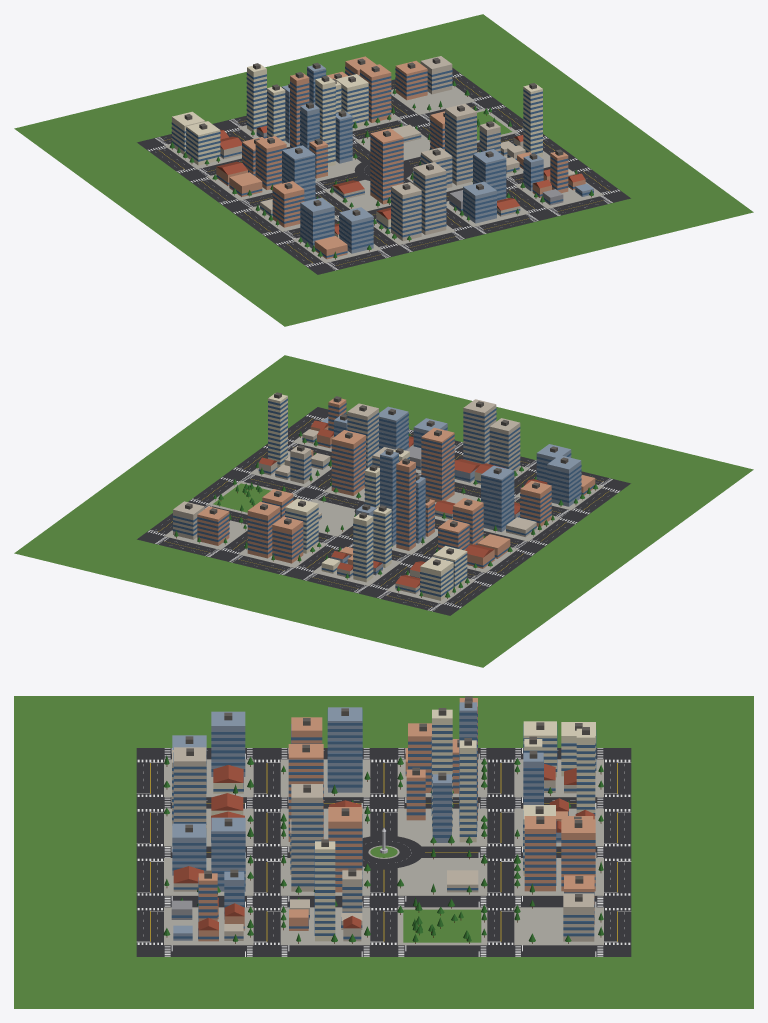
The model's file is ciudad.obj.
3 renders of one model, top to bottom at view 1: azimuth 30°, elevation 25°; view 2: azimuth 150°, elevation 25°; view 3: azimuth 270°, elevation 25°, orthographic. The views are drawn at different scales.
Visible parts, largest first — view 1: terreno, asfalto, lineas_carril, edificio_2_2_11, edificio_1_2_11, edificio_1_3_11, follaje, edificio_1_3_01, banqueta_3_0, ventanas_1_2_11, ventanas_2_2_11, edificio_0_3_00 (+38 smaller); view 2: terreno, asfalto, lineas_carril, edificio_1_2_11, edificio_2_2_10, follaje, edificio_0_2_10, edificio_1_3_11, edificio_1_1_00, ventanas_1_2_11, edificio_0_3_00, edificio_2_0_10 (+35 smaller); view 3: terreno, asfalto, lineas_carril, follaje, banqueta_2_1, parque_3_1, banqueta_3_0, edificio_2_2_11, edificio_0_2_10, banqueta_1_1, edificio_1_3_11, edificio_2_0_11 (+52 smaller).
Boxes of the visible parts, <box> form: terreno: <box>14,14,753,326</box>; asfalto: <box>137,67,630,274</box>; lineas_carril: <box>148,73,619,270</box>; edificio_2_2_11: <box>445,103,476,185</box>; edificio_1_2_11: <box>370,128,403,204</box>; edificio_1_3_11: <box>413,162,446,234</box>; follaje: <box>169,81,593,258</box>; edificio_1_3_01: <box>391,182,421,241</box>; banqueta_3_0: <box>391,85,475,115</box>; ventanas_1_2_11: <box>370,135,403,200</box>; ventanas_2_2_11: <box>445,112,476,181</box>; edificio_0_3_00: <box>300,197,334,248</box>; terreno: <box>14,355,753,667</box>; asfalto: <box>137,407,630,615</box>; lineas_carril: <box>148,414,619,611</box>; edificio_1_2_11: <box>421,427,454,502</box>; edificio_2_2_10: <box>331,430,365,495</box>; follaje: <box>174,431,598,597</box>; edificio_0_2_10: <box>481,465,514,531</box>; edificio_1_3_11: <box>463,399,496,463</box>; edificio_1_1_00: <box>396,459,415,550</box>; ventanas_1_2_11: <box>421,434,454,499</box>; edificio_0_3_00: <box>547,455,581,506</box>; edificio_2_0_10: <box>247,501,280,558</box>; terreno: <box>14,696,753,1008</box>; asfalto: <box>136,748,631,956</box>; lineas_carril: <box>137,748,631,956</box>; follaje: <box>163,755,603,942</box>; banqueta_2_1: <box>397,858,487,895</box>; parque_3_1: <box>403,909,481,942</box>; banqueta_3_0: <box>514,907,603,945</box>; edificio_2_2_11: <box>291,784,322,891</box>; edificio_0_2_10: <box>328,707,362,792</box>; banqueta_1_1: <box>397,808,487,846</box>; edificio_1_3_11: <box>174,747,206,827</box>; edificio_2_0_11: <box>524,816,555,891</box>.
Bounding box in the file's own units: 380 × 71.54 × 380.
